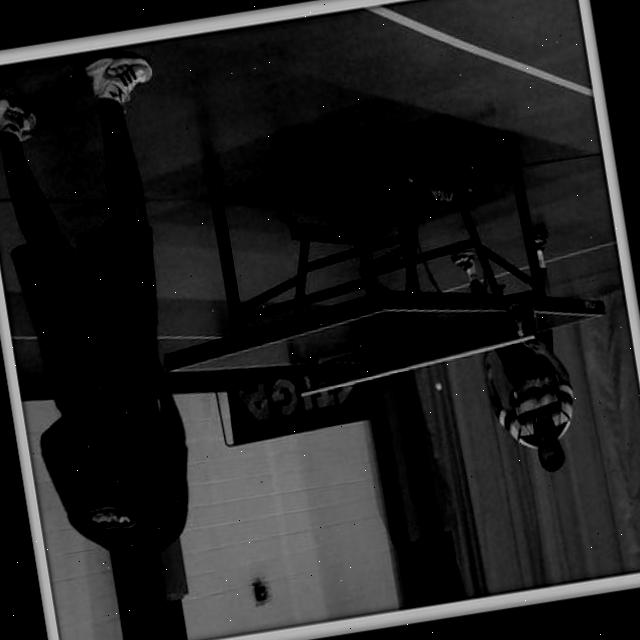ping-pong-ball: (433, 380, 442, 392)
